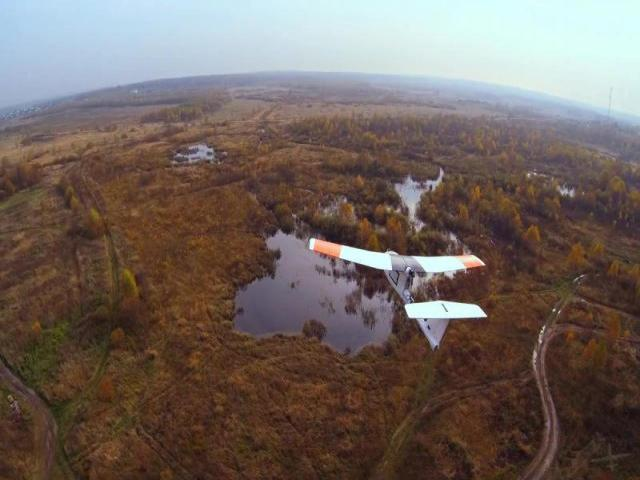hedef: (301, 228, 504, 356)
